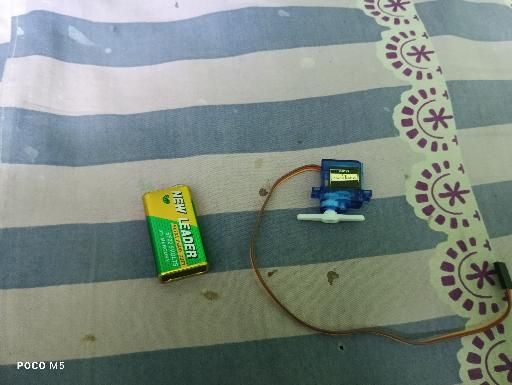Battery: (142, 184, 210, 285)
Motor: (296, 159, 372, 224)
